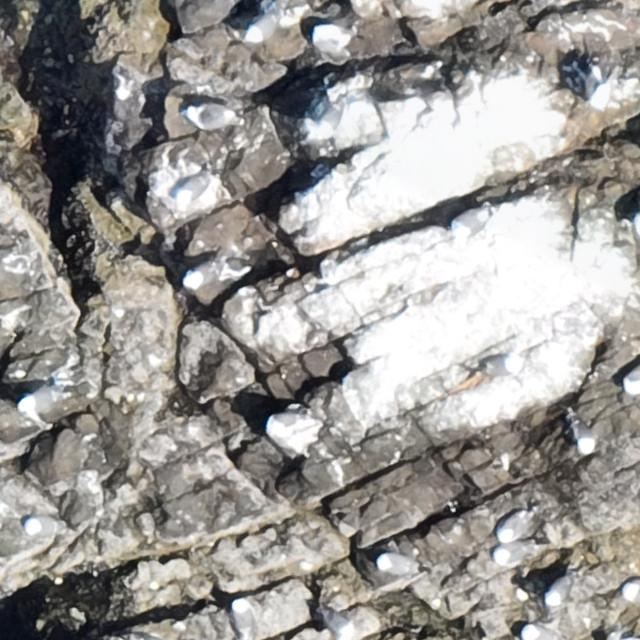umineko: (176, 171, 217, 211), (314, 17, 361, 50), (18, 382, 66, 414), (180, 262, 225, 294), (583, 67, 612, 115), (499, 506, 533, 546), (184, 102, 233, 129), (493, 543, 541, 569), (453, 211, 492, 242), (317, 608, 356, 639), (244, 14, 281, 45), (569, 414, 597, 454), (230, 598, 259, 636), (320, 99, 348, 138), (544, 575, 576, 608), (477, 356, 525, 378), (514, 575, 542, 608), (27, 516, 58, 534), (377, 553, 406, 572), (522, 627, 562, 640)
